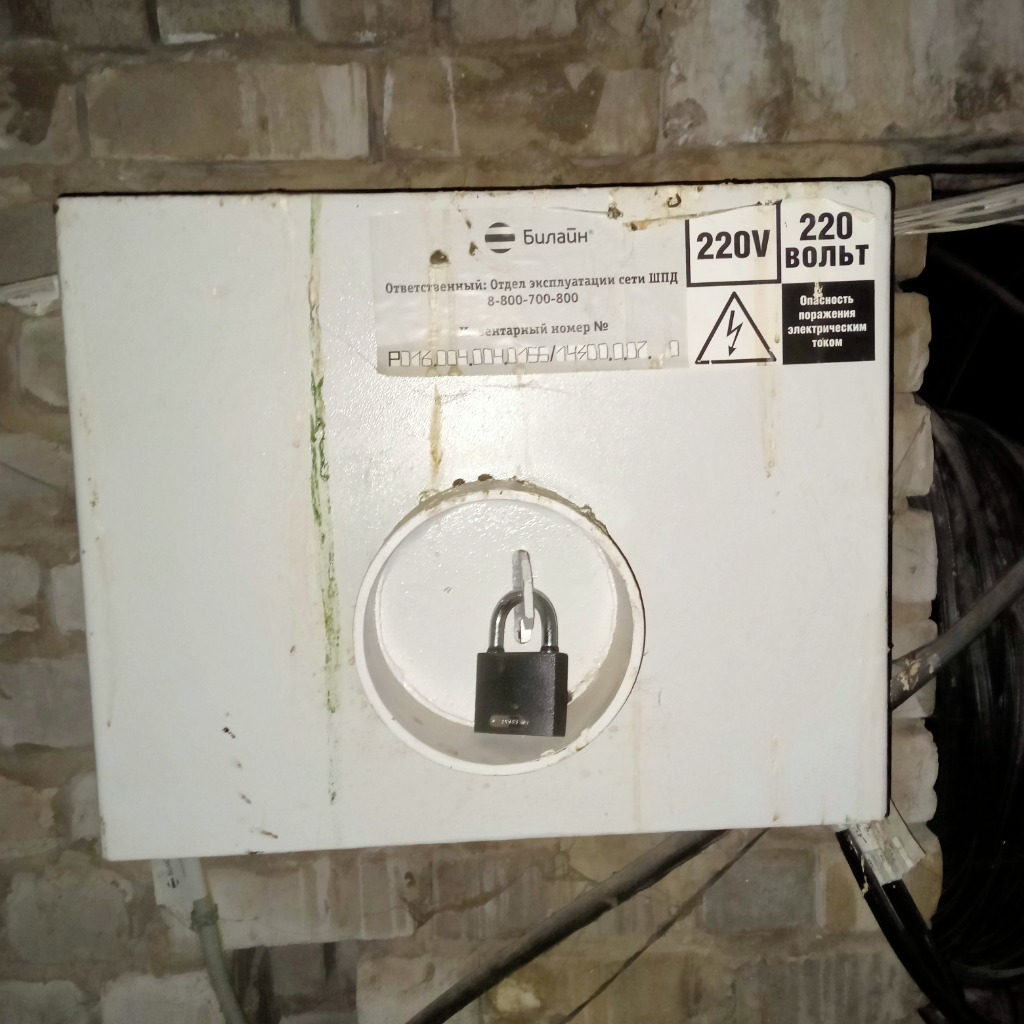shta-3: (43, 177, 895, 861)
